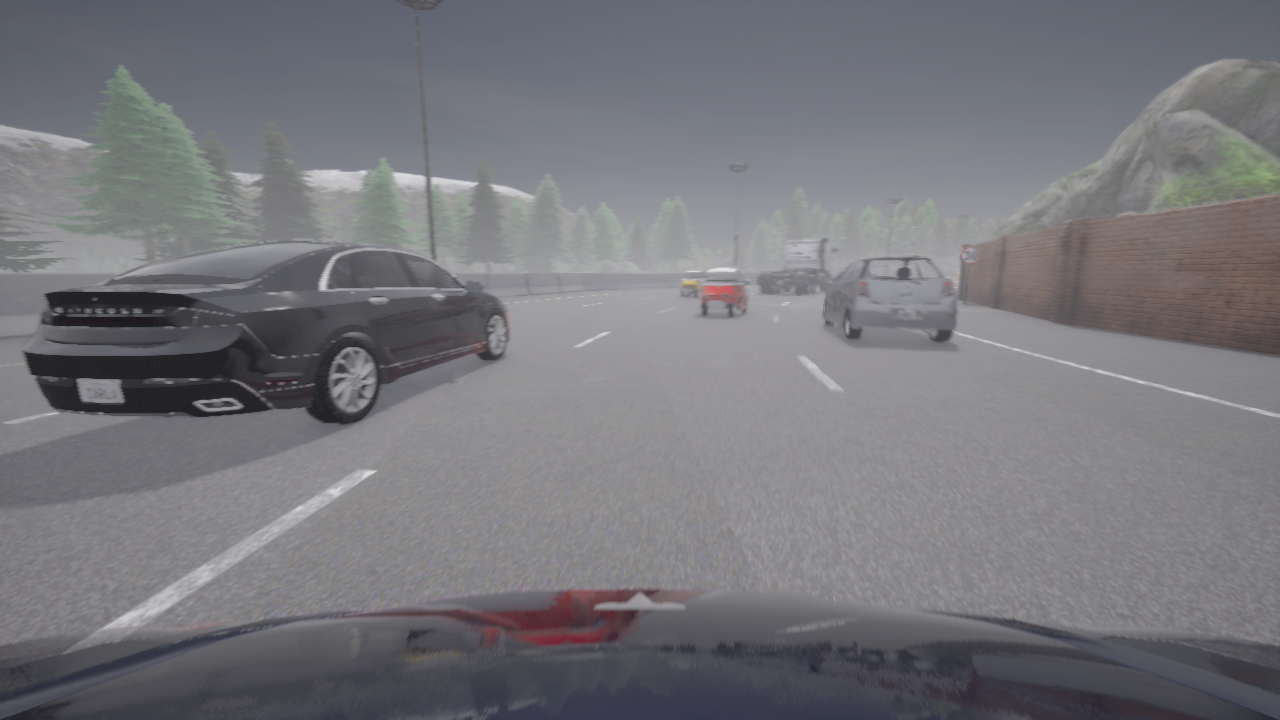cyclist: (0, 588, 1279, 719), (22, 239, 509, 424), (823, 256, 956, 342), (757, 237, 836, 294), (700, 267, 749, 317), (680, 270, 705, 297), (832, 268, 846, 282)
